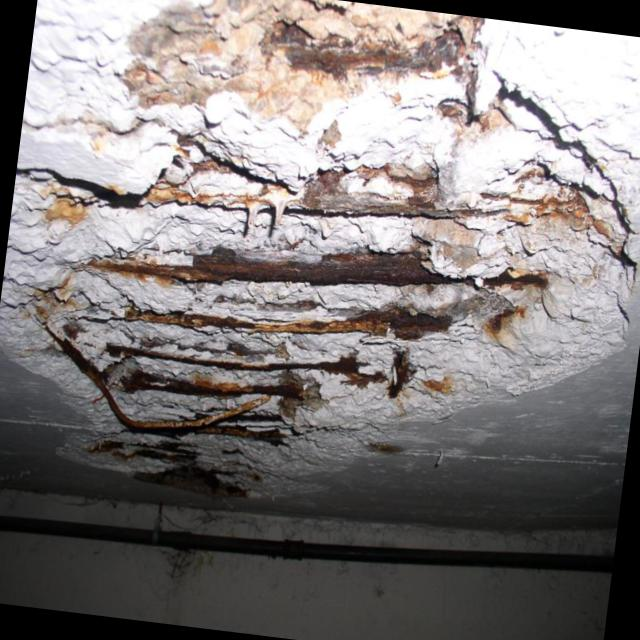spalling: (0, 0, 640, 502)
